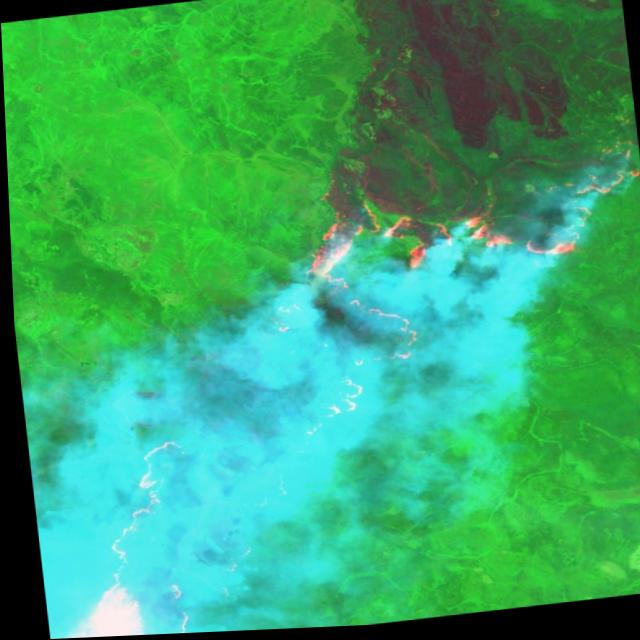fire: (6, 137, 640, 640)
